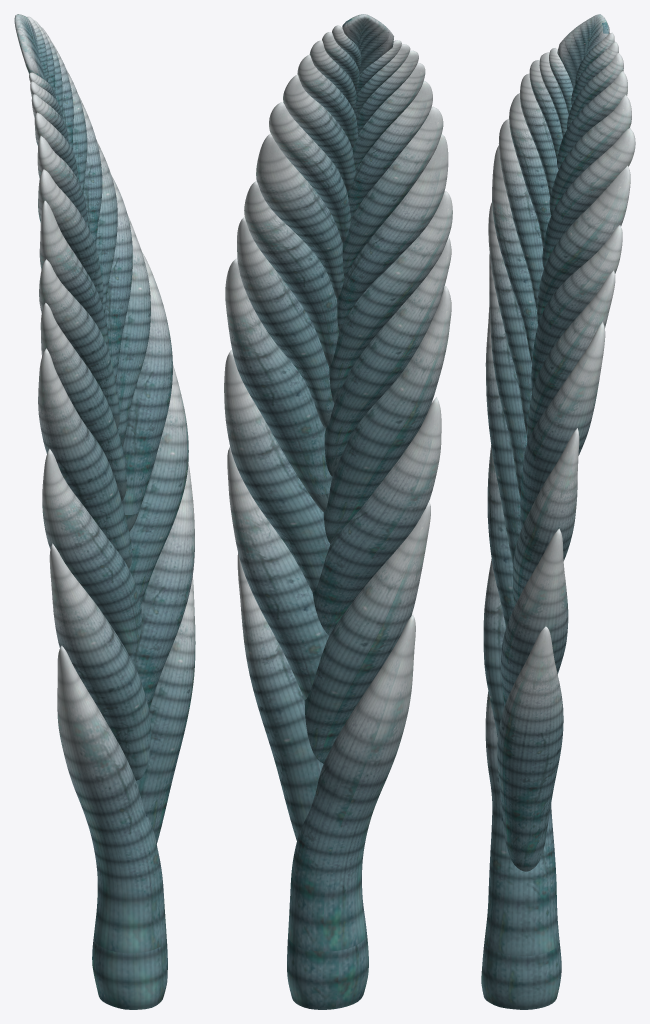
The picture shows the model from 3 angles, left to right: view 1: azimuth 30°, elevation 25°; view 2: azimuth 150°, elevation 25°; view 3: azimuth 270°, elevation 25°; orthographic projection. The views are drawn at different scales.
Visible parts, largest first — view 1: Object_2; view 2: Object_2; view 3: Object_2.
Boxes of the visible parts, bbox=[...] form: Object_2: bbox=[14, 14, 195, 1009]; Object_2: bbox=[224, 14, 452, 1009]; Object_2: bbox=[481, 14, 635, 1009].
Bounding box in the file's own units: 6.95 × 35.92 × 5.3.
1 material, 1 textured.
